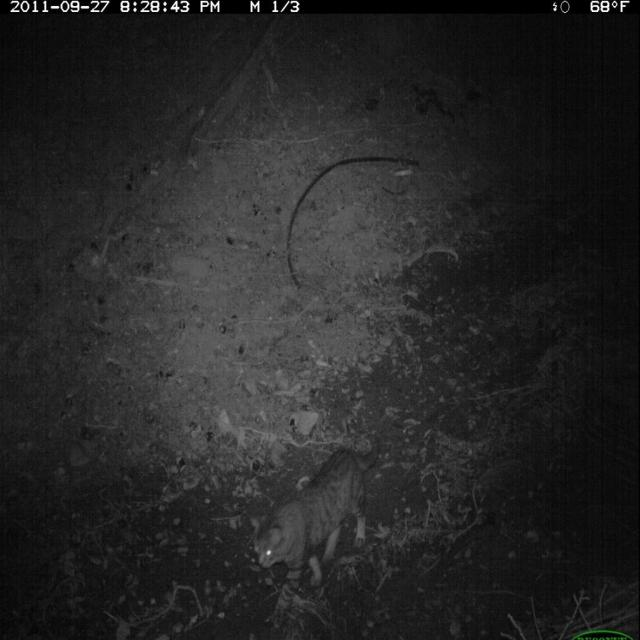cat: (243, 437, 384, 636)
